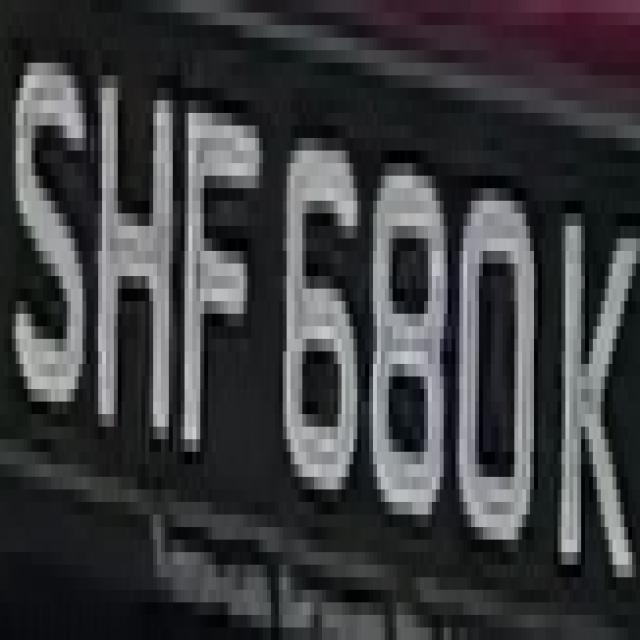0: (448, 163, 554, 577)
6: (279, 88, 365, 514)
8: (365, 126, 452, 552)
F: (169, 63, 259, 502)
H: (86, 12, 180, 477)
K: (558, 163, 632, 628)
S: (8, 12, 90, 464)
